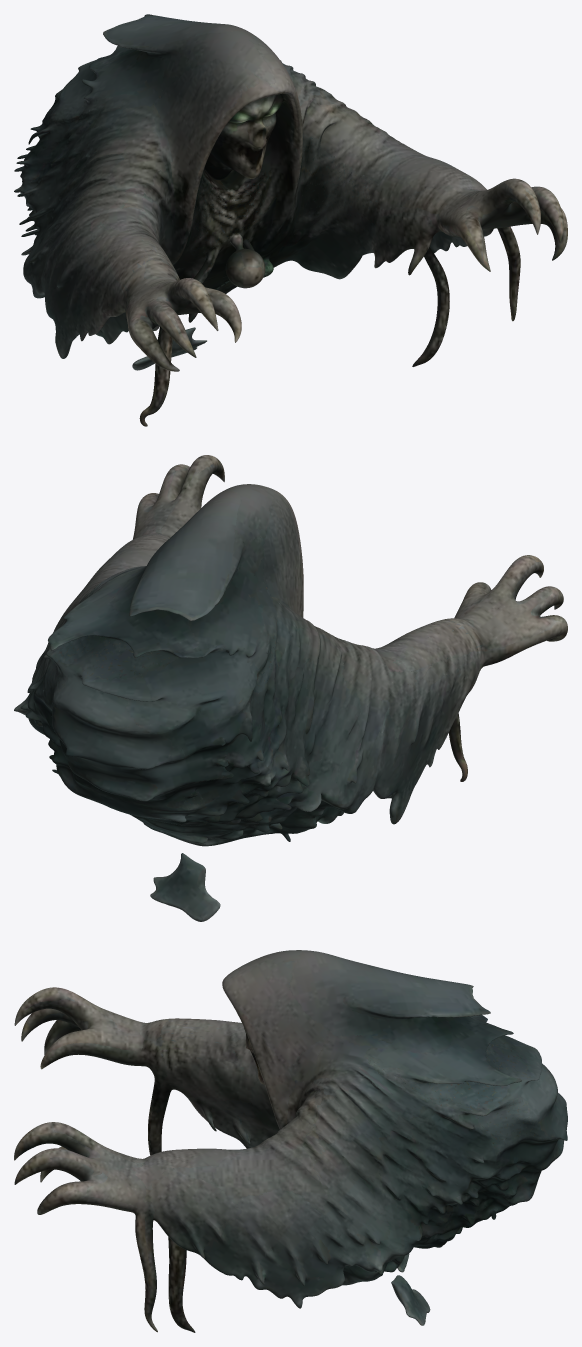
File: specter.glb
3 views of the same model, one above another, from view 1: azimuth 30°, elevation 25°; view 2: azimuth 150°, elevation 25°; view 3: azimuth 270°, elevation 25° (orthographic).
Visible parts, largest first — view 1: material; view 2: material; view 3: material.
Part boxes in pixels (x1=…): material: x1=14, y1=14, x2=567, y2=426; material: x1=14, y1=455, x2=567, y2=921; material: x1=14, y1=950, x2=567, y2=1332.
Bounding box in the file's own units: 0.8266 × 0.7016 × 0.9479.
1 material, 1 textured.
